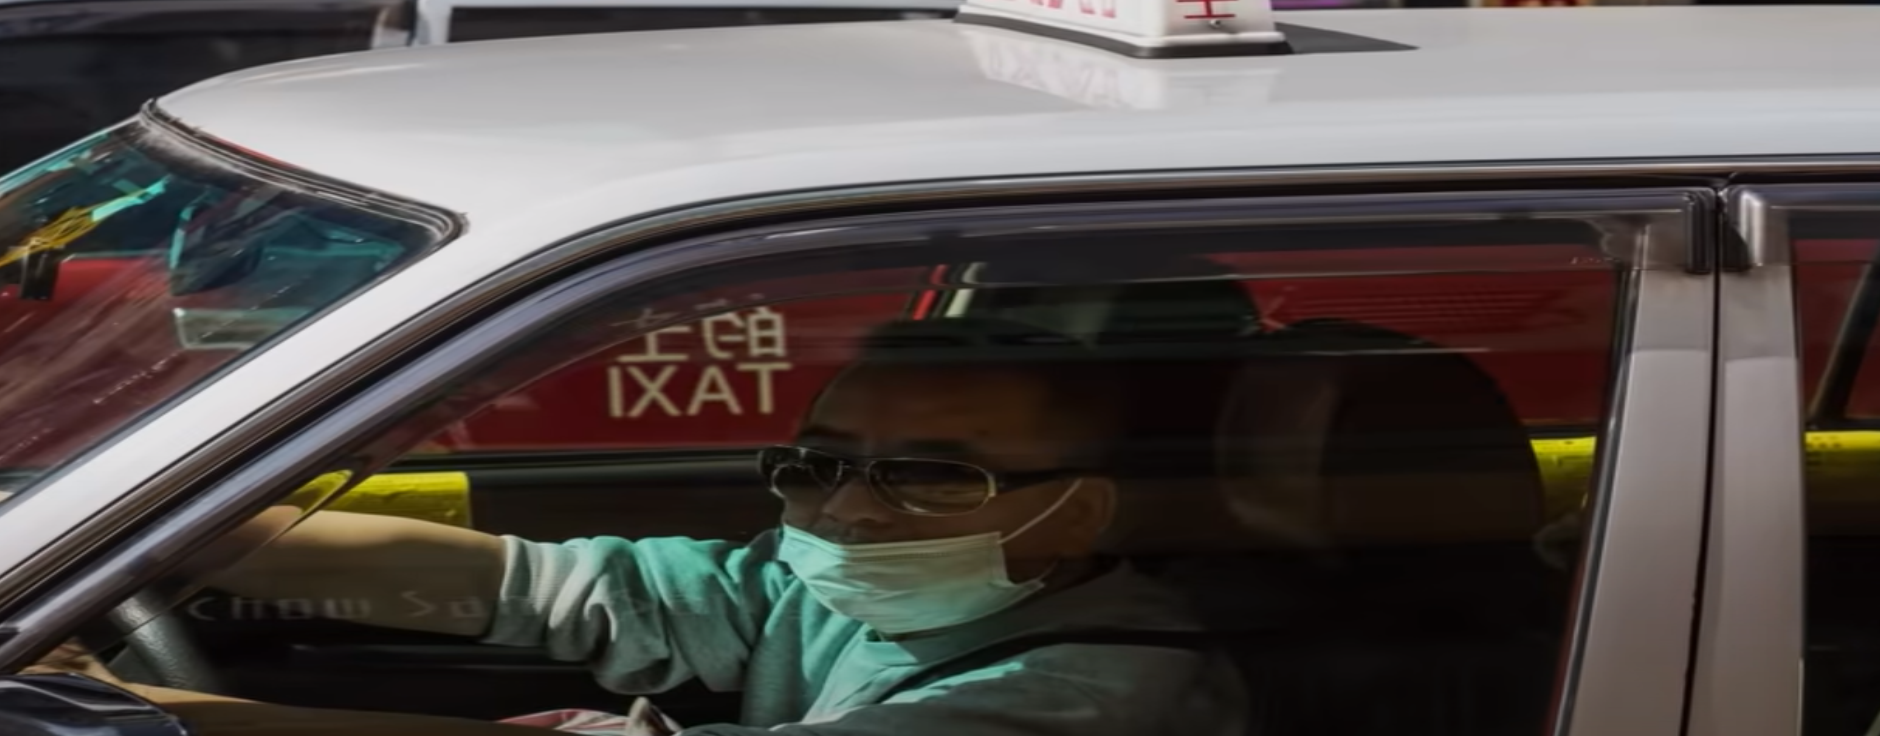mask_weared_incorrect: (764, 322, 1159, 639)
